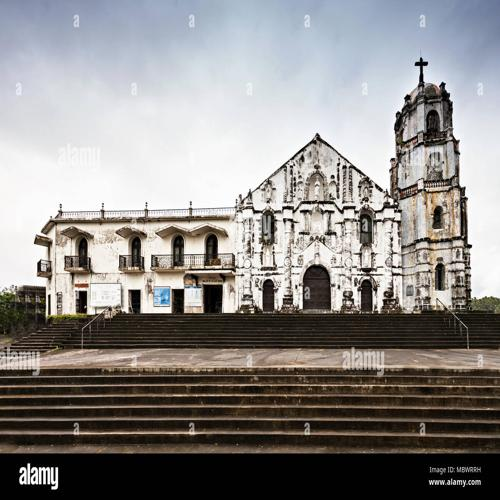Daraga Church: (236, 51, 477, 317)
